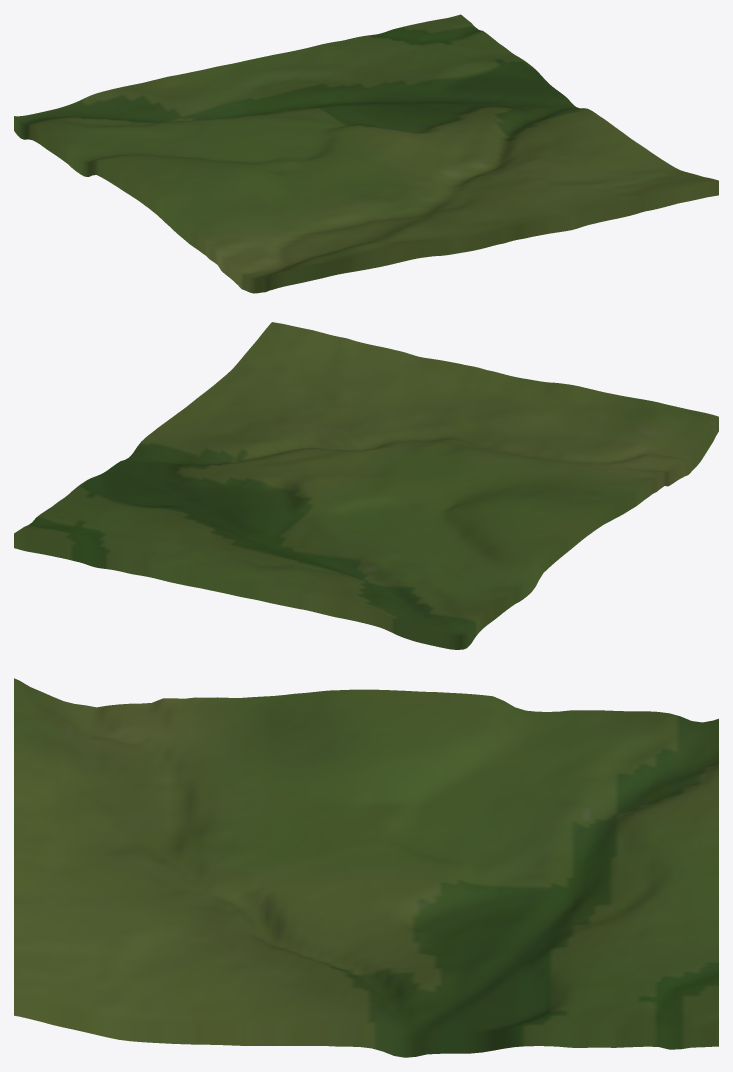
File: terrain_11_-11.glb
3 renders of one model, top to bottom at view 1: azimuth 30°, elevation 25°; view 2: azimuth 150°, elevation 25°; view 3: azimuth 270°, elevation 25°, orthographic. The views are drawn at different scales.
Parts seen in each view (by area): view 1: terrain_11_-11; view 2: terrain_11_-11; view 3: terrain_11_-11.
Part boxes in pixels (<box>): terrain_11_-11: <box>14,14,718,293</box>; terrain_11_-11: <box>14,322,718,649</box>; terrain_11_-11: <box>14,678,718,1057</box>.
Size of the model in its own units: 256 by 33 by 256.
